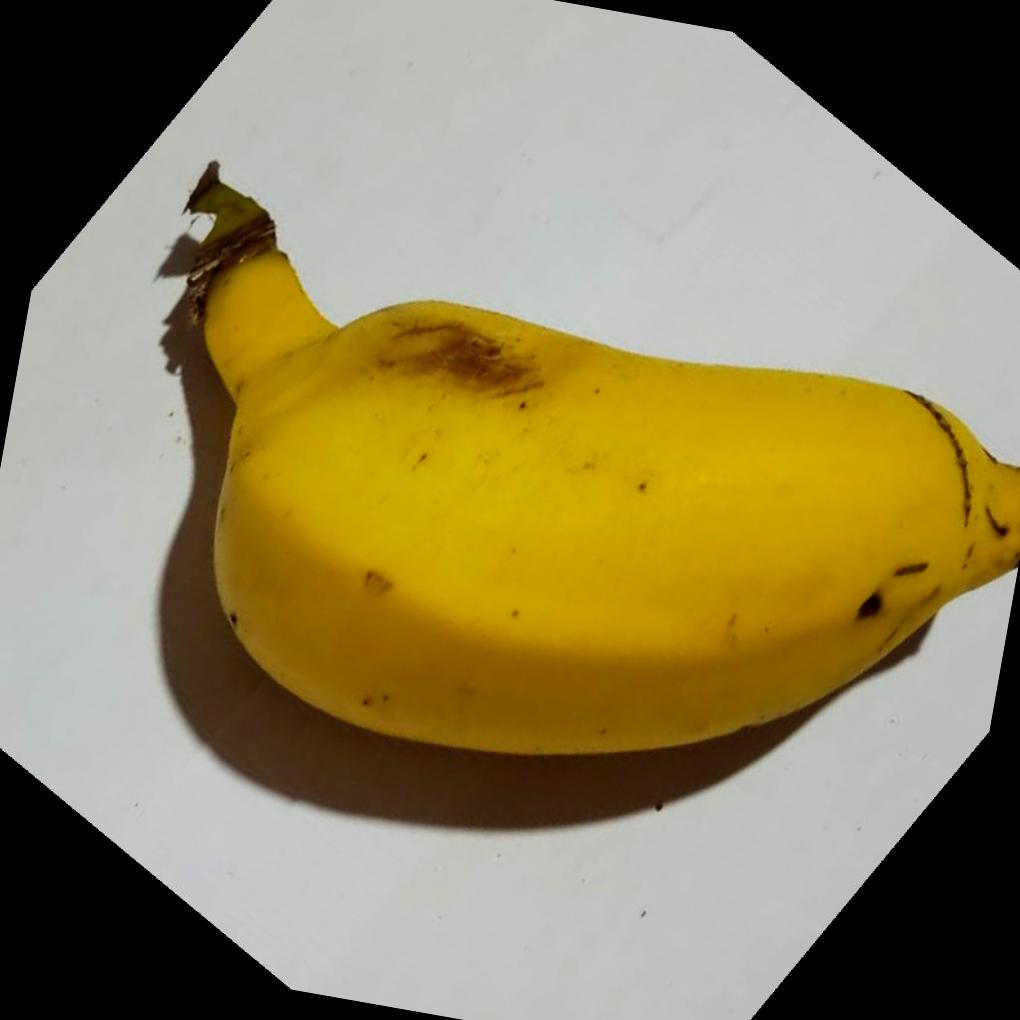Banana Ripe: (123, 219, 1020, 907)
